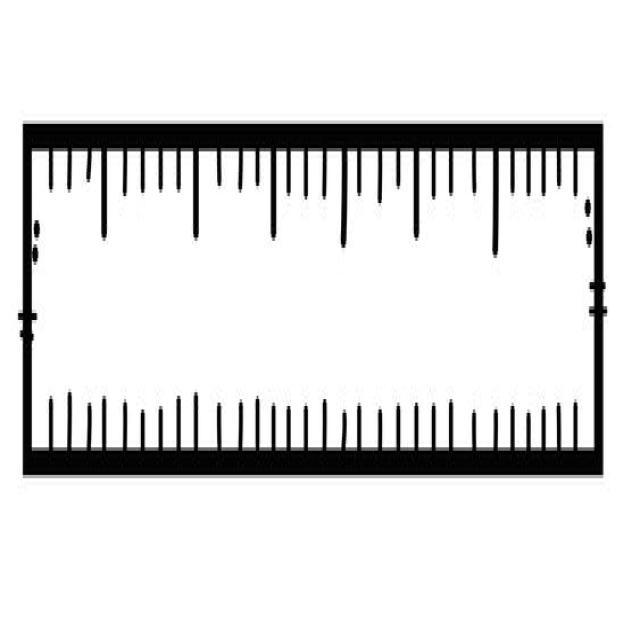Ruler: (14, 90, 612, 512)
